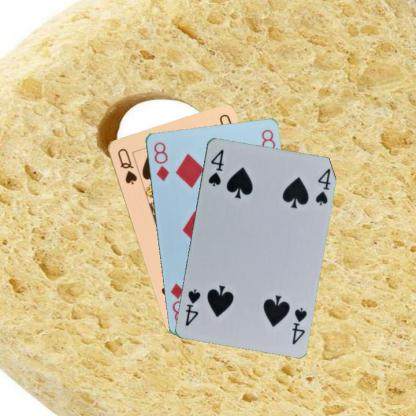4s: (205, 146, 225, 187), (289, 304, 308, 345)
8d: (151, 139, 170, 182)
Qs: (114, 146, 138, 186)
